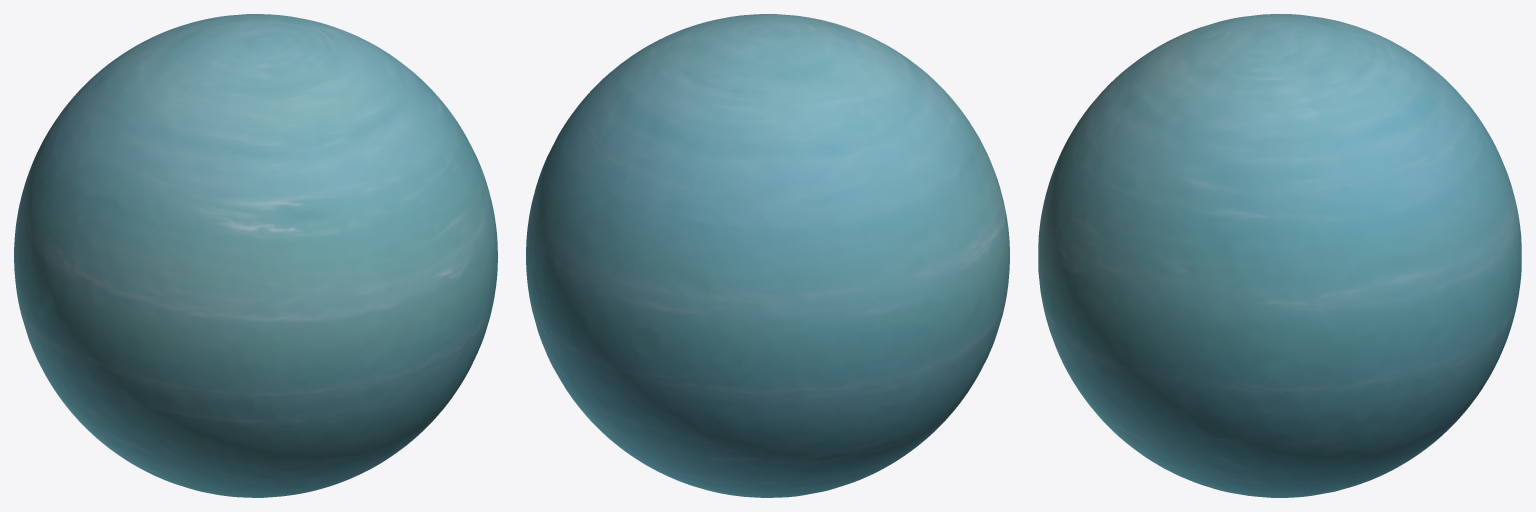
Rendered from PlanetUranus.glb.
The picture shows the model from 3 angles, left to right: view 1: azimuth 30°, elevation 25°; view 2: azimuth 150°, elevation 25°; view 3: azimuth 270°, elevation 25°; orthographic projection.
Visible parts, largest first — view 1: Uranus; view 2: Uranus; view 3: Uranus.
Part boxes in pixels (x1,y1,x2,y2): Uranus: (14, 14, 497, 497); Uranus: (526, 14, 1009, 497); Uranus: (1038, 14, 1521, 497).
Bounding box in the file's own units: 2 × 2 × 2.
1 material, 1 textured.
